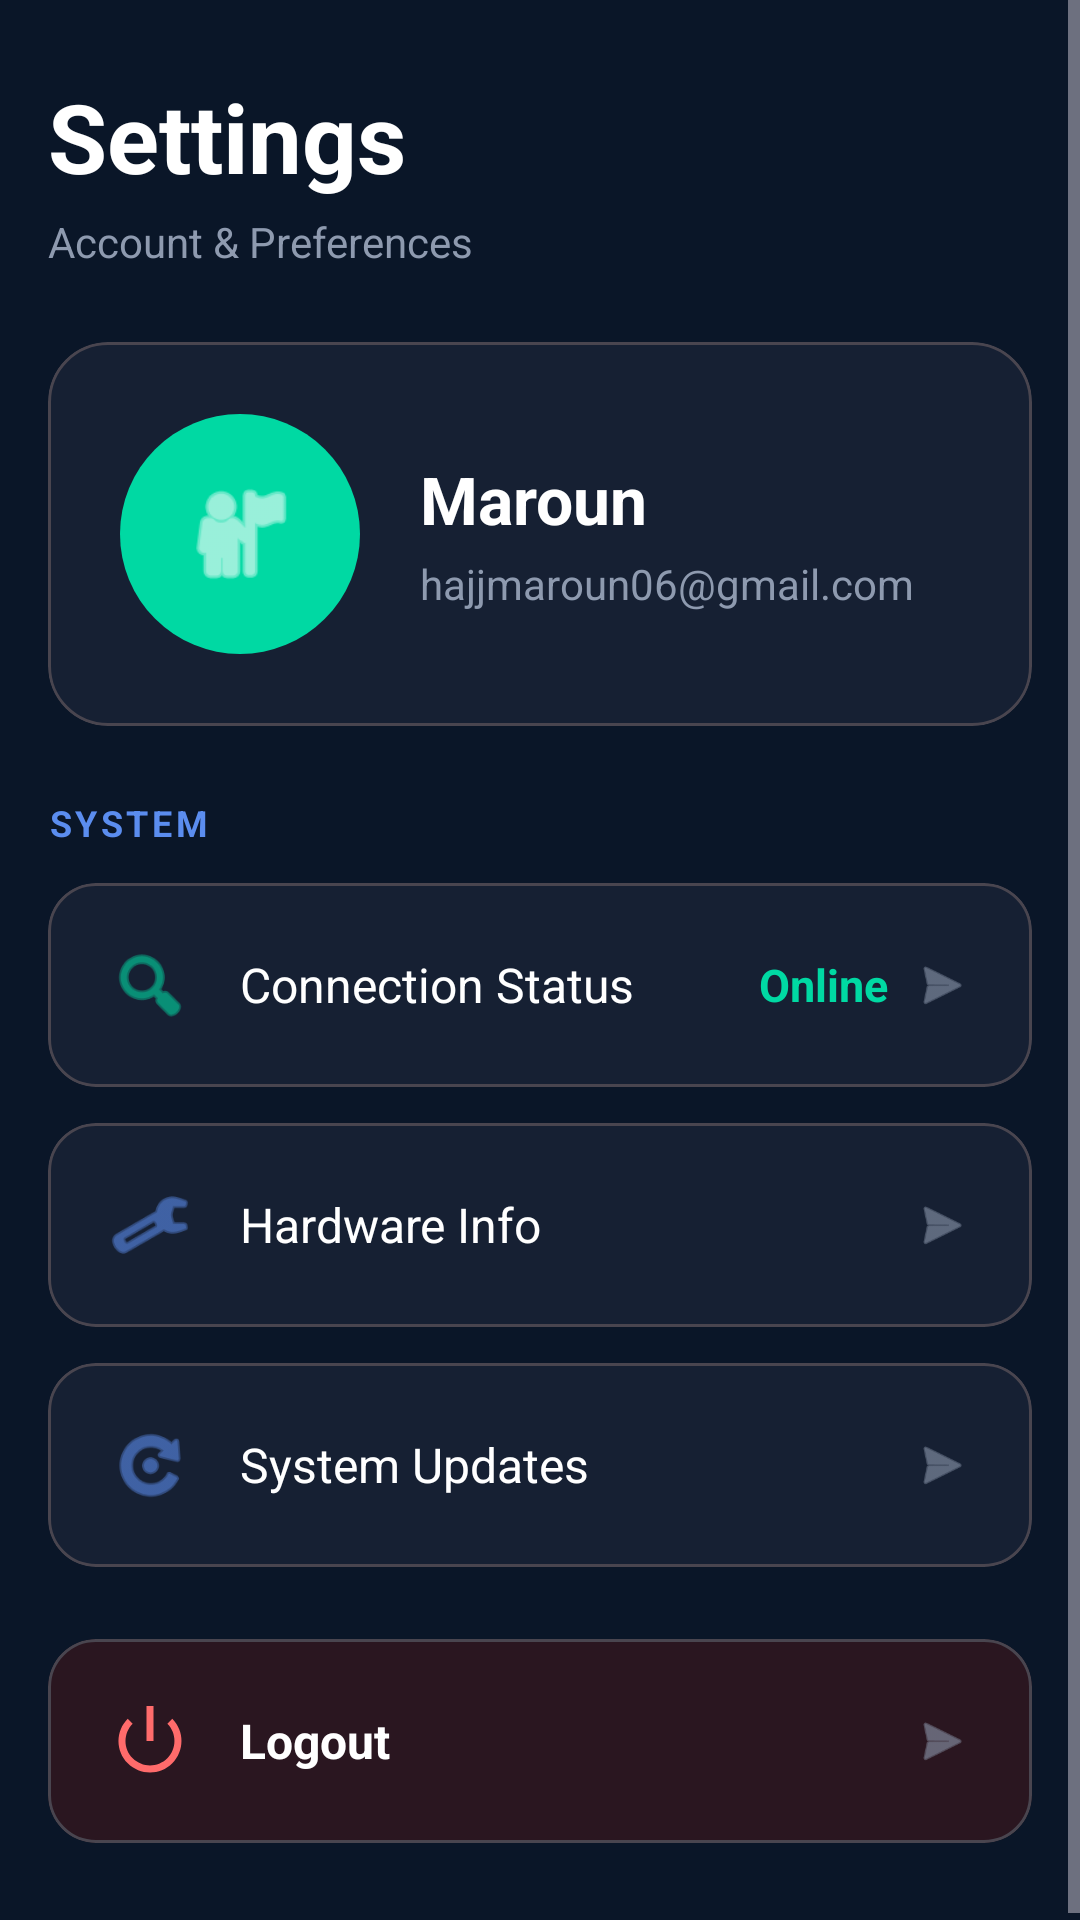

Point at icon controls on the screen. Image size 1080w x 1920h, points as point (x, y).
lock power off: point (150, 1739)
manage: point (150, 1225)
rotate: point (150, 1465)
search: point (150, 985)
send: point (942, 985), point (942, 1225), point (942, 1465), point (942, 1741)
